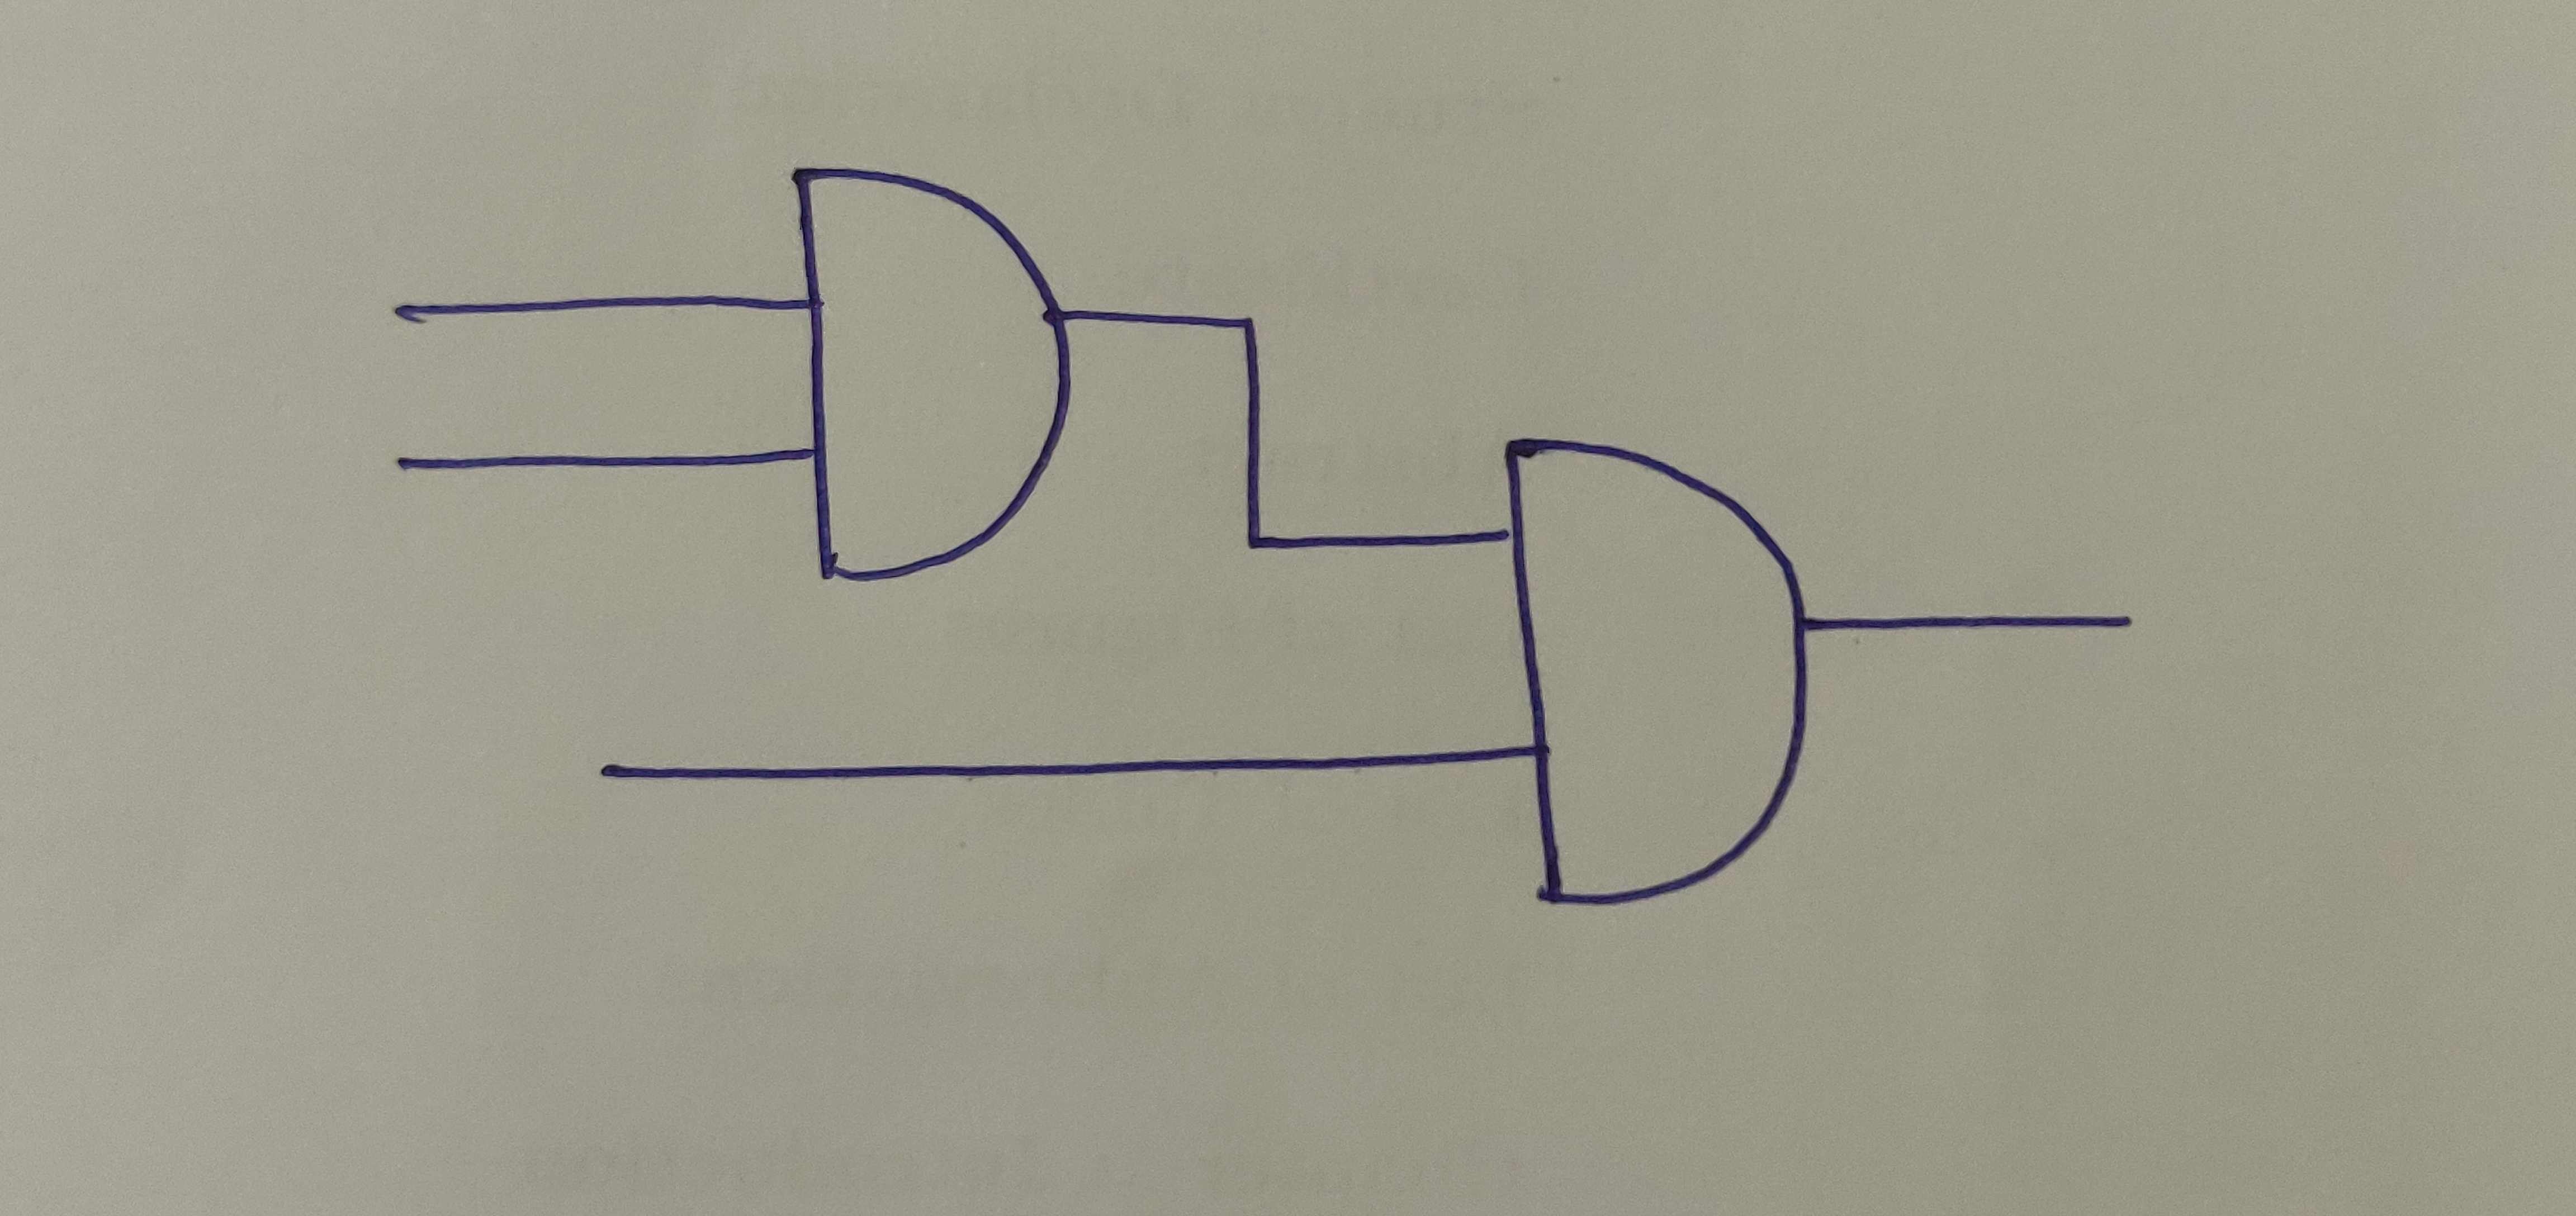and: (1498, 432, 1810, 907), (789, 156, 1078, 585)
